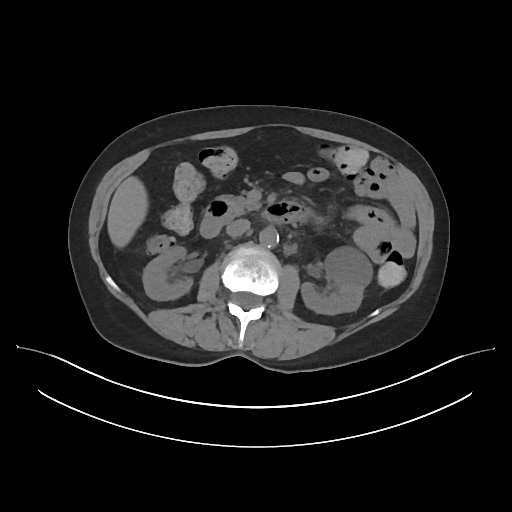Lesion: (320, 241, 375, 300)
